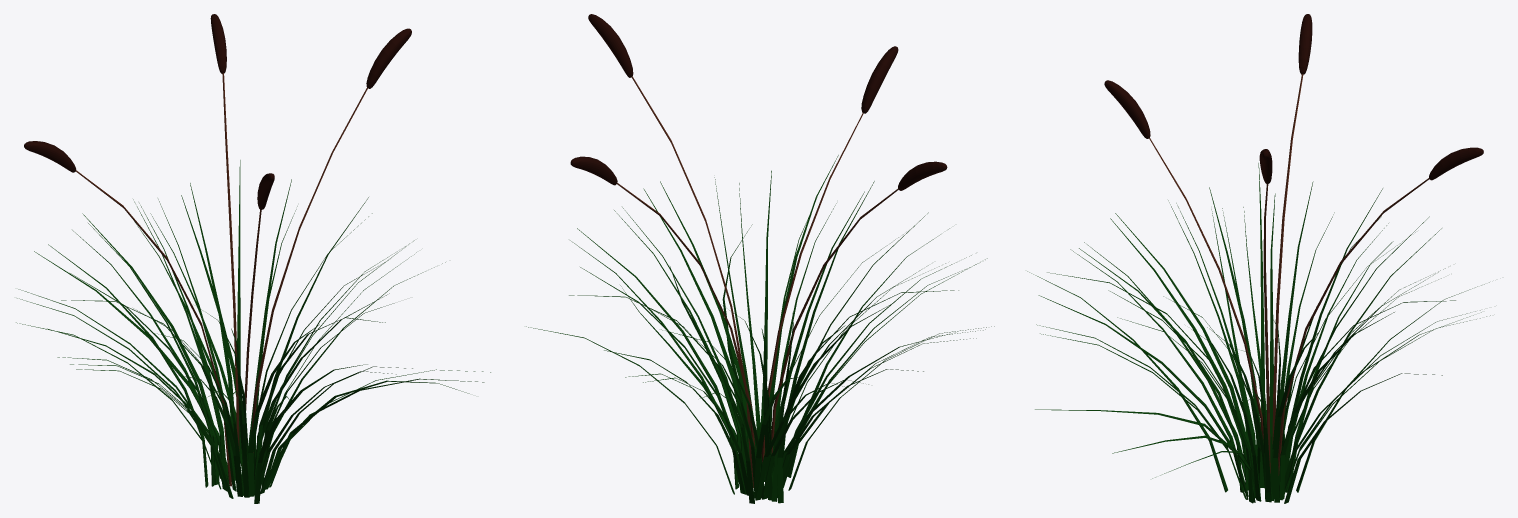
File: weed.obj
3 views of the same model, side by side, from view 1: azimuth 30°, elevation 25°; view 2: azimuth 150°, elevation 25°; view 3: azimuth 270°, elevation 25° (orthographic). The views are drawn at different scales.
Visible parts, largest first — view 1: PampasGrass01, PampasGrass02, PampasGrass03; view 2: PampasGrass01, PampasGrass02, PampasGrass03; view 3: PampasGrass01, PampasGrass02, PampasGrass03.
Boxes of the visible parts, x1=… form: PampasGrass01: x1=16, y1=160, x2=490, y2=503; PampasGrass02: x1=75, y1=73, x2=367, y2=486; PampasGrass03: x1=24, y1=14, x2=411, y2=209; PampasGrass01: x1=526, y1=155, x2=994, y2=503; PampasGrass02: x1=617, y1=76, x2=898, y2=487; PampasGrass03: x1=570, y1=14, x2=947, y2=190; PampasGrass01: x1=1027, y1=163, x2=1490, y2=503; PampasGrass02: x1=1149, y1=74, x2=1429, y2=475; PampasGrass03: x1=1104, y1=14, x2=1483, y2=183.
Size of the model in its own units: 14.73 by 14.89 by 15.18.
